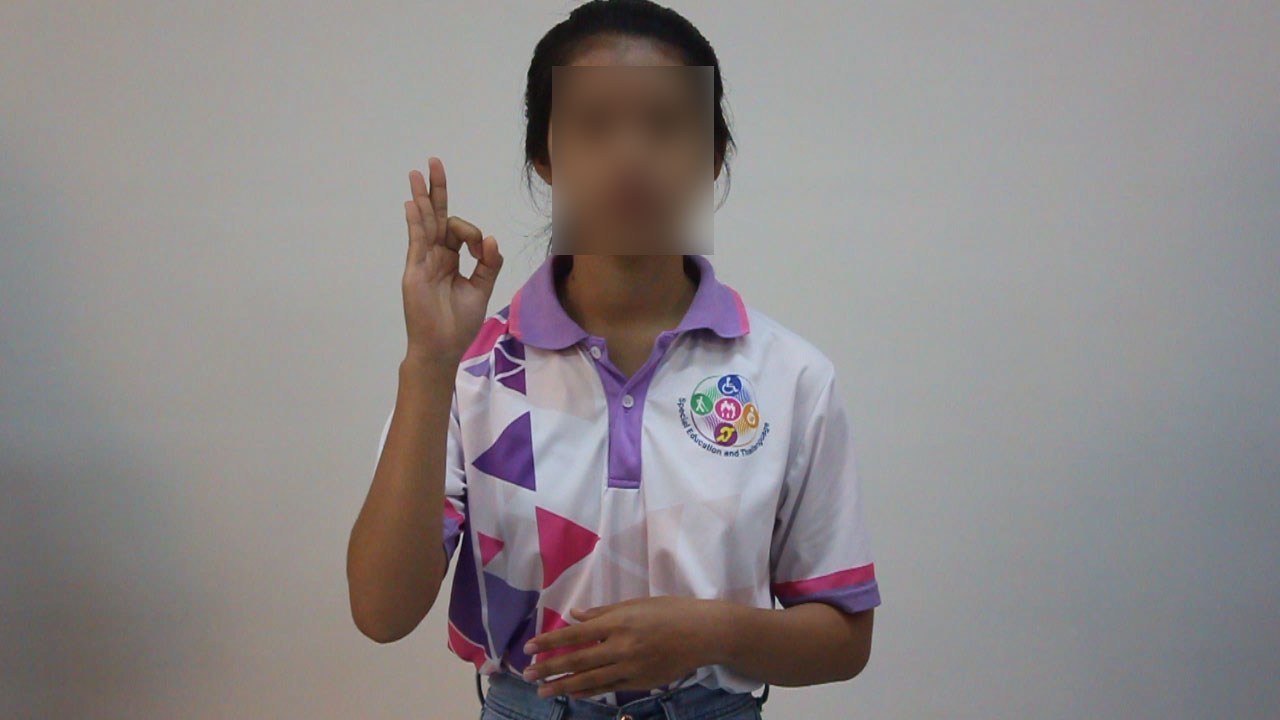for: (390, 147, 512, 367)
